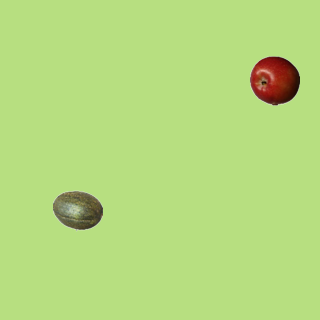Apple Braeburn: (249, 55, 299, 105)
Melon Piel de Sapo: (52, 185, 102, 235)
